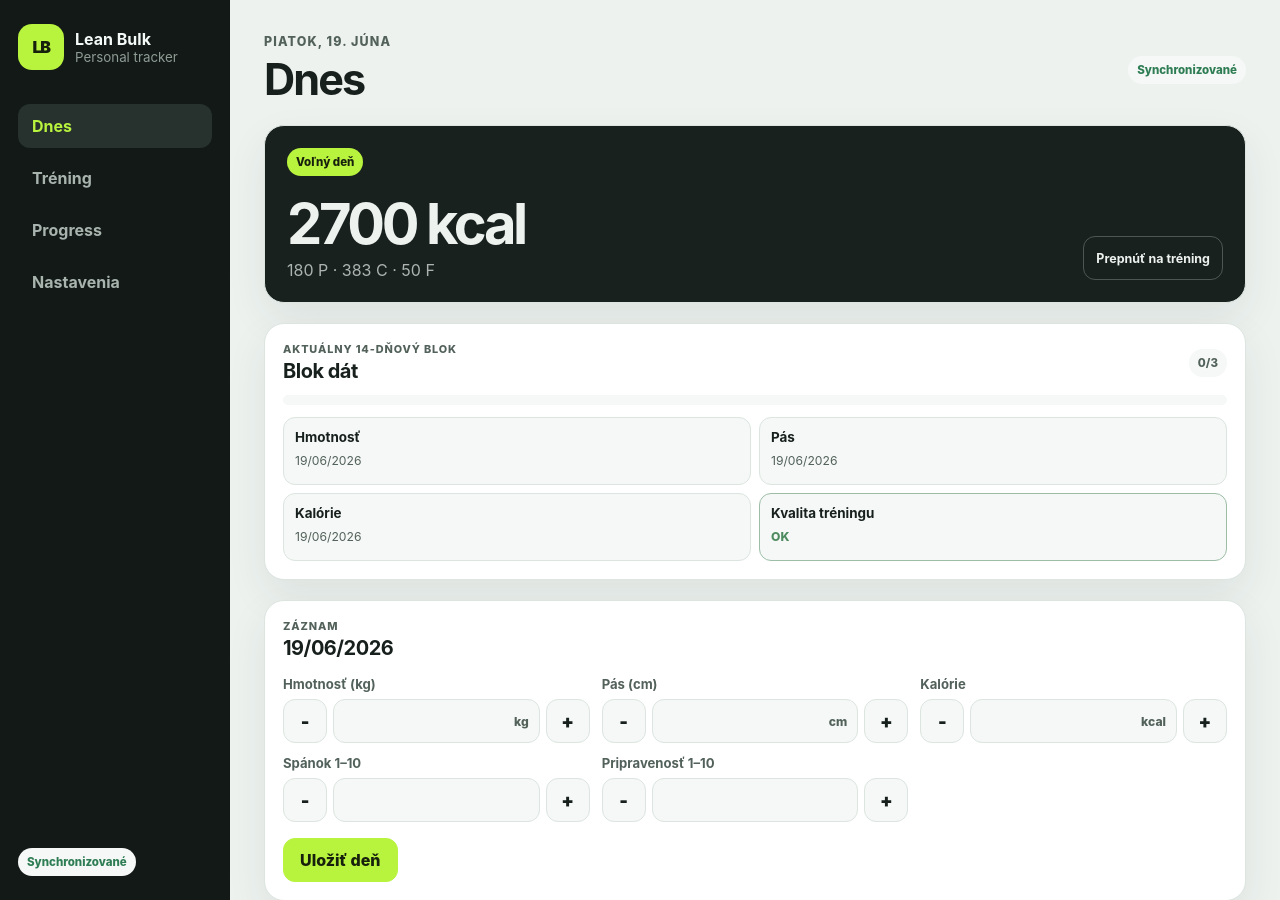
Test: App demo mode › shows app validation instead of silently blocking a decimal score
The image size is (1280, 900).
Type "7.5" into the number field labelled "Spánok 1–10" at (436, 800), box [333, 778, 540, 822]
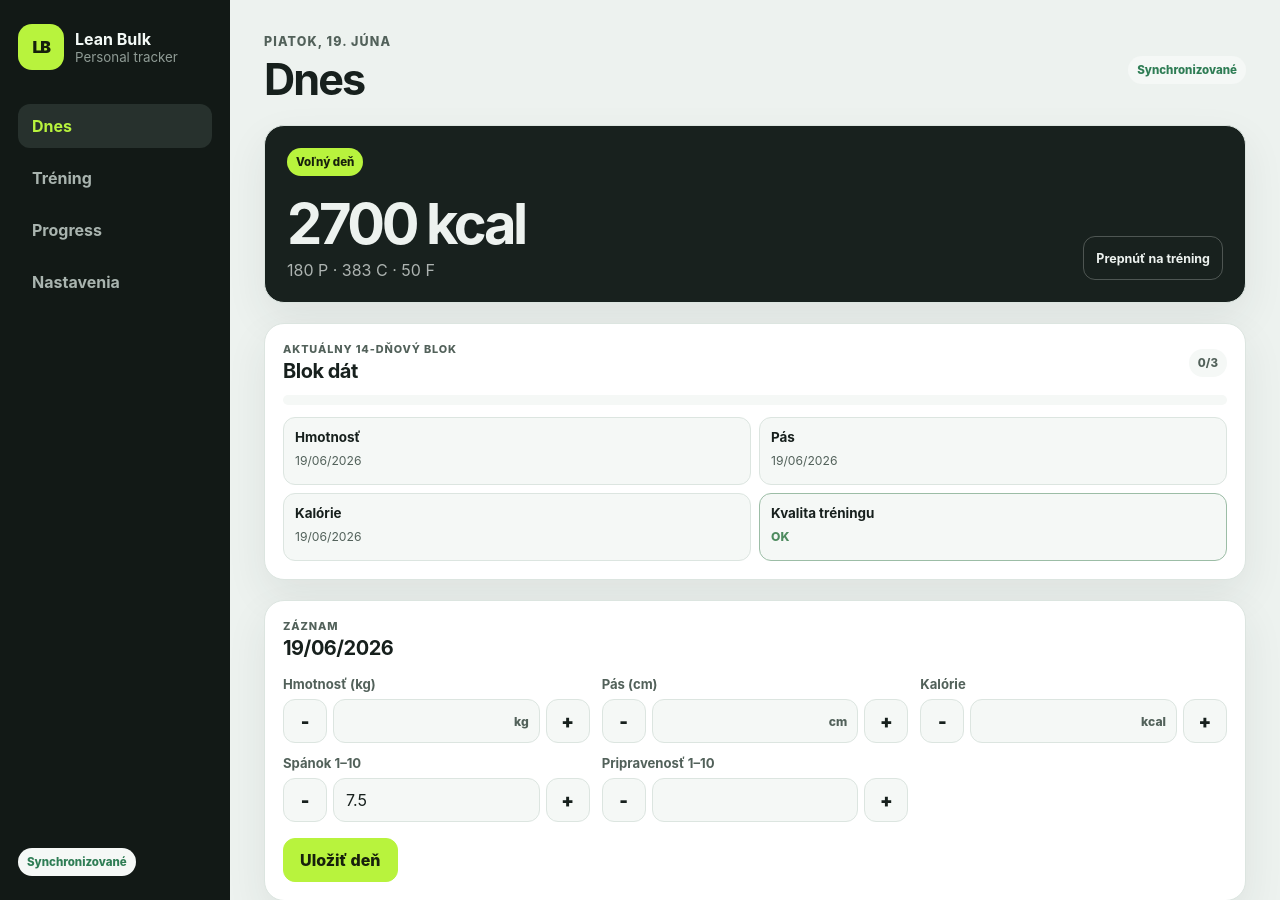
Click the button "Uložiť deň" at (340, 860), box [283, 838, 398, 882]
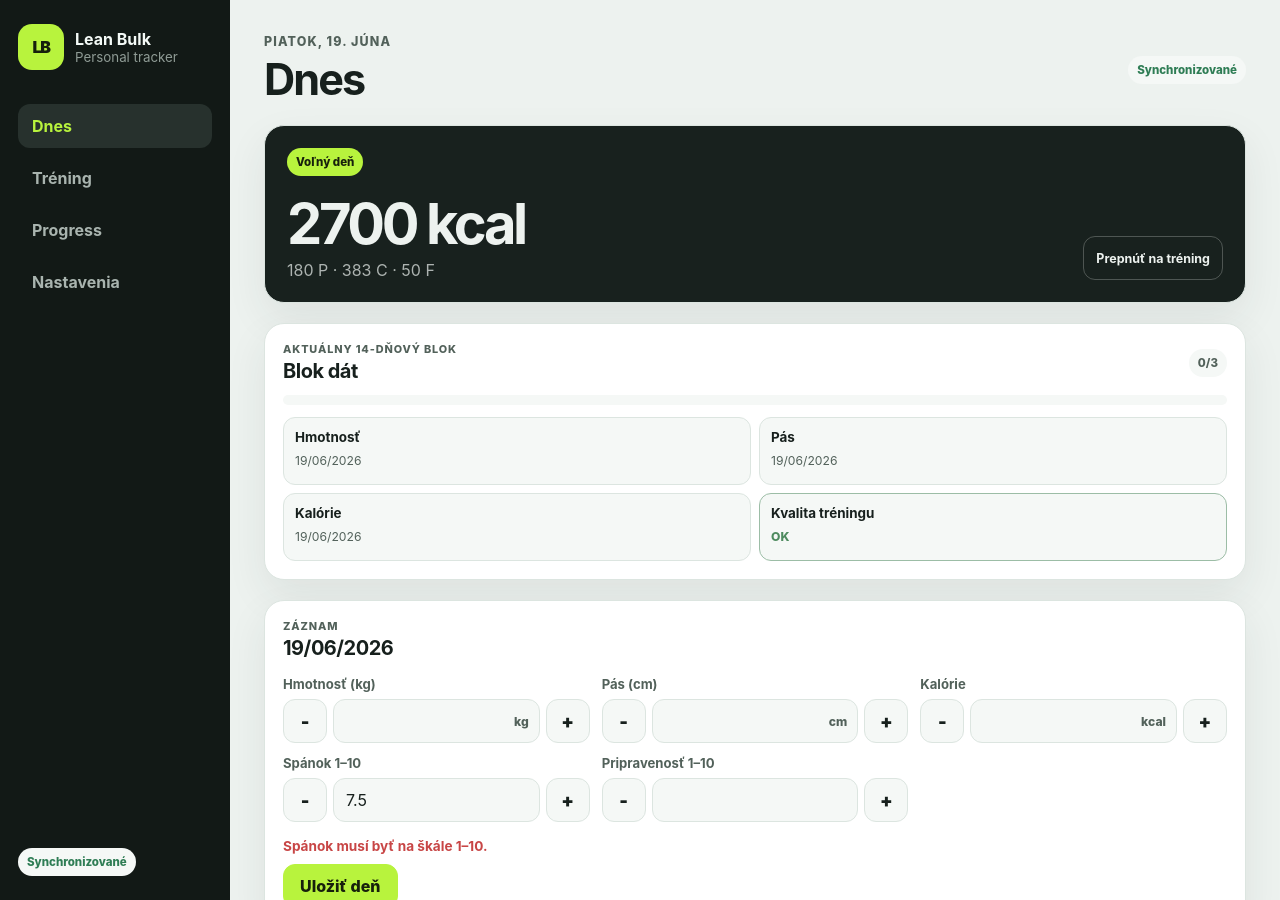
Result: the text "Spánok musí byť na škále 1–10." is shown at [283, 838, 488, 854]
